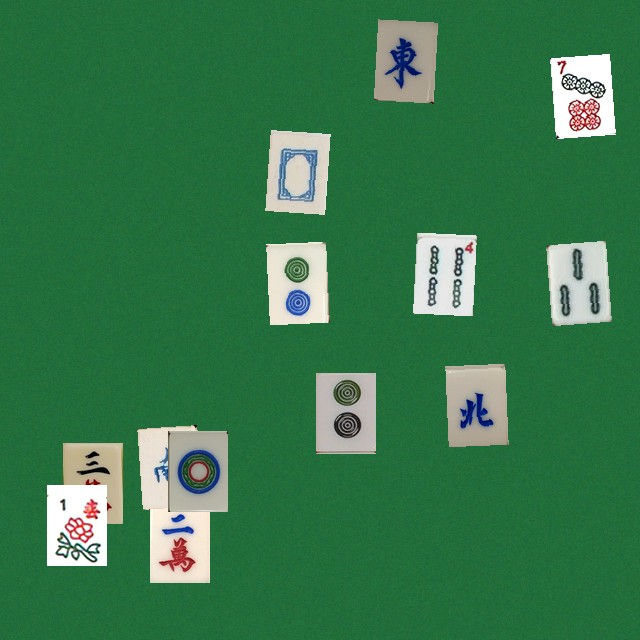tile: (149, 501, 209, 582), (137, 425, 197, 506), (445, 363, 505, 444), (550, 53, 610, 134), (546, 240, 606, 321), (62, 442, 122, 523), (265, 130, 325, 211), (413, 232, 473, 313), (46, 484, 106, 565), (315, 372, 375, 453), (373, 19, 433, 100), (167, 430, 227, 511), (266, 241, 326, 322)
